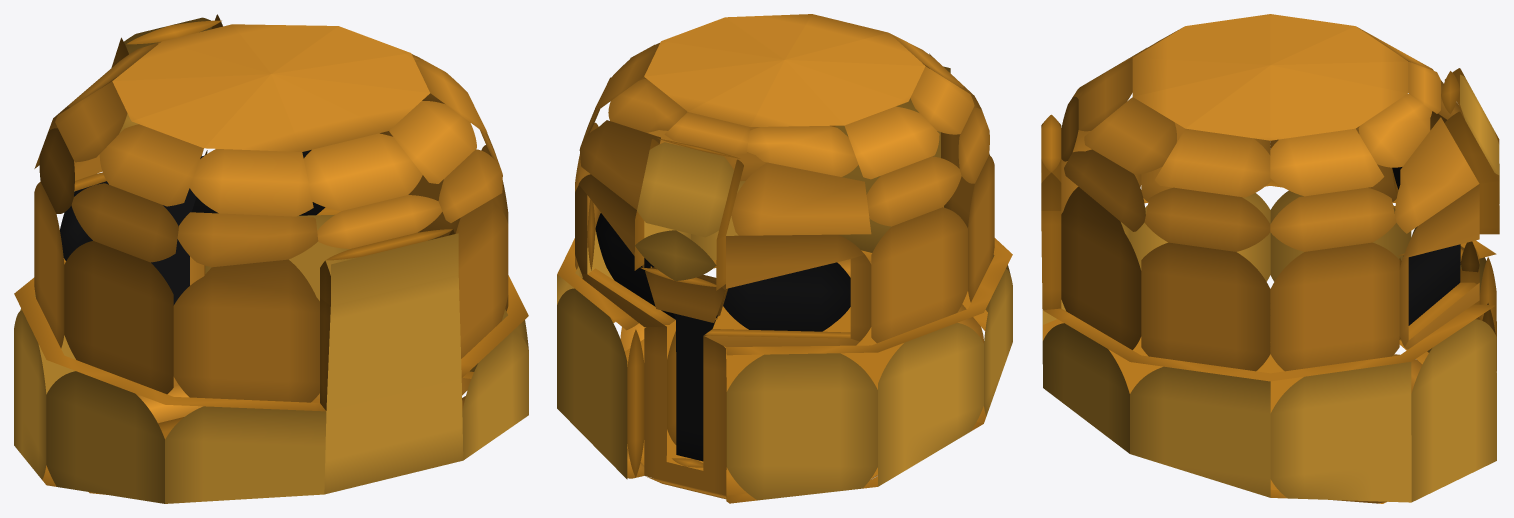
Rendered from Peacekeeper Head.obj.
3 views of the same model, side by side, from view 1: azimuth 30°, elevation 25°; view 2: azimuth 150°, elevation 25°; view 3: azimuth 270°, elevation 25° (orthographic). The views are drawn at different scales.
Parts seen in each view (by area): view 1: cylinder; view 2: cylinder; view 3: cylinder.
Part boxes in pixels (x1=…): cylinder: x1=14, y1=14, x2=528, y2=503; cylinder: x1=557, y1=14, x2=1012, y2=503; cylinder: x1=1041, y1=14, x2=1499, y2=503.
Bounding box in the file's own units: 0.4207 × 0.3728 × 0.4.
1 material, 1 textured.
